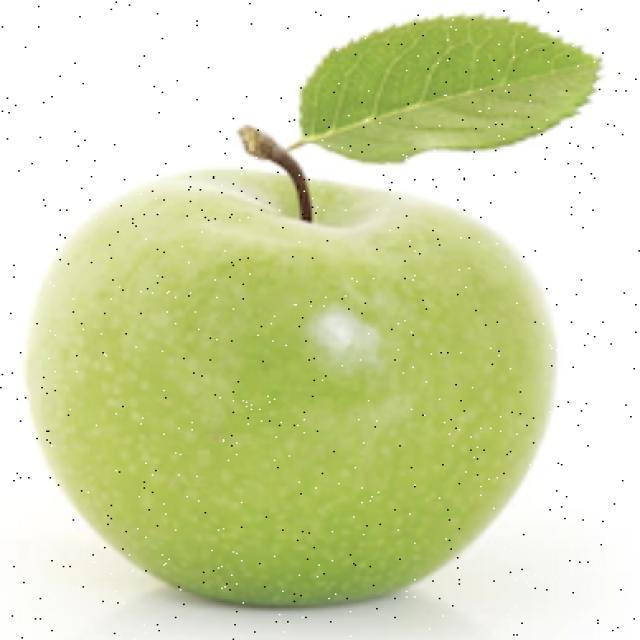Fresh Apple: (20, 155, 558, 603)
